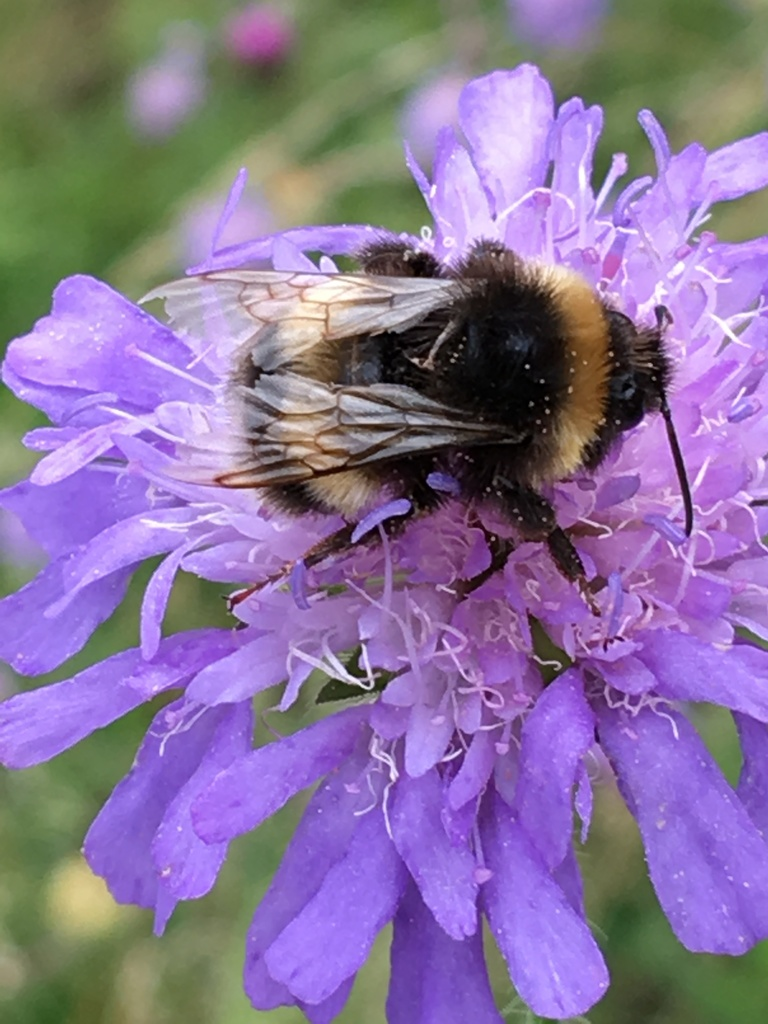bumblebee: (136, 236, 699, 615)
